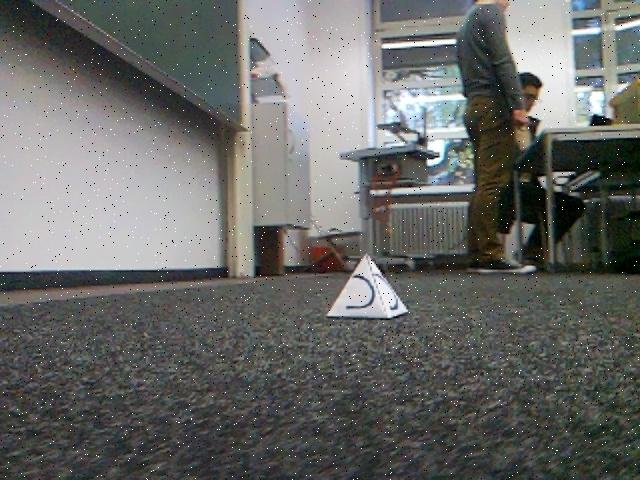C: (325, 255, 410, 321)
